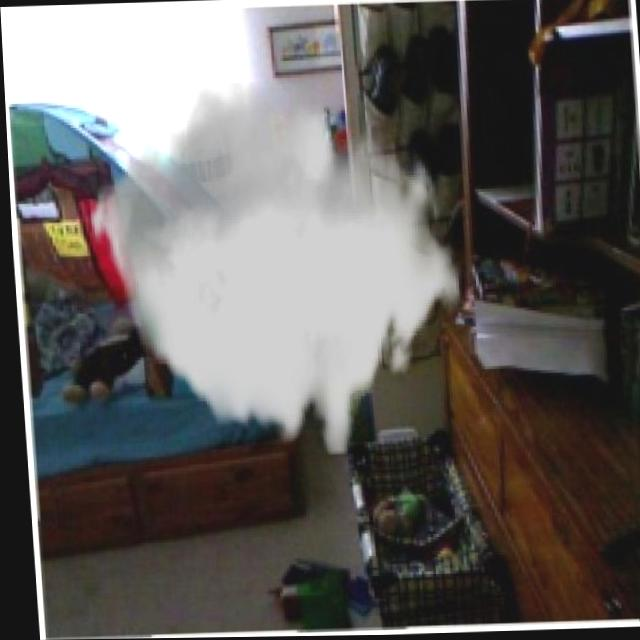no_helmet: (76, 76, 467, 460)
